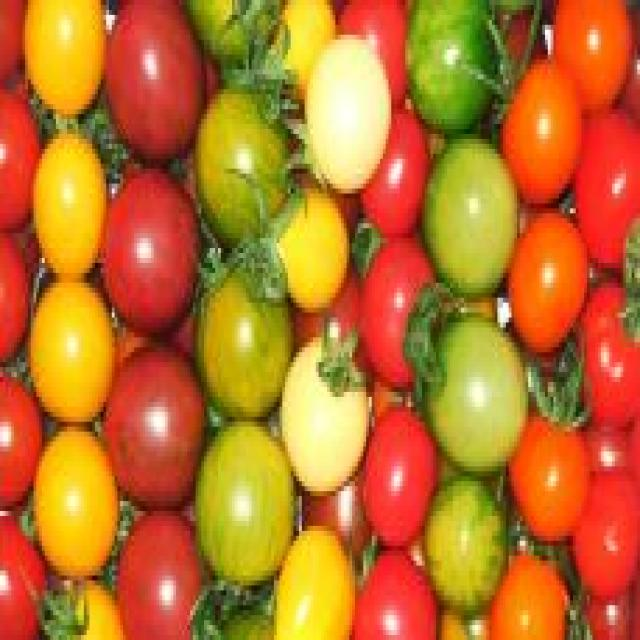level 1: (377, 0, 507, 133)
level 2: (182, 404, 310, 601), (422, 285, 524, 470), (423, 125, 518, 308), (417, 444, 519, 611)
level 3: (192, 218, 290, 418), (183, 70, 288, 252), (176, 0, 285, 79)
level 4: (32, 428, 120, 584), (22, 280, 111, 420), (27, 115, 102, 268), (26, 0, 107, 127), (16, 554, 132, 636)
level 5: (500, 48, 590, 210), (505, 405, 598, 545), (505, 210, 592, 348), (552, 1, 640, 112), (486, 550, 578, 640)
level 6: (88, 165, 210, 344), (96, 329, 216, 508), (101, 2, 218, 174), (358, 230, 447, 384), (107, 508, 209, 638), (352, 104, 436, 251), (339, 0, 431, 129), (575, 94, 640, 262), (565, 465, 640, 594), (367, 410, 435, 550), (301, 450, 384, 560), (291, 257, 376, 360), (0, 475, 51, 639), (581, 283, 640, 422), (345, 554, 437, 638), (0, 63, 42, 242), (0, 343, 38, 519), (579, 430, 640, 508), (0, 232, 30, 367), (584, 573, 640, 639), (0, 0, 30, 82)
